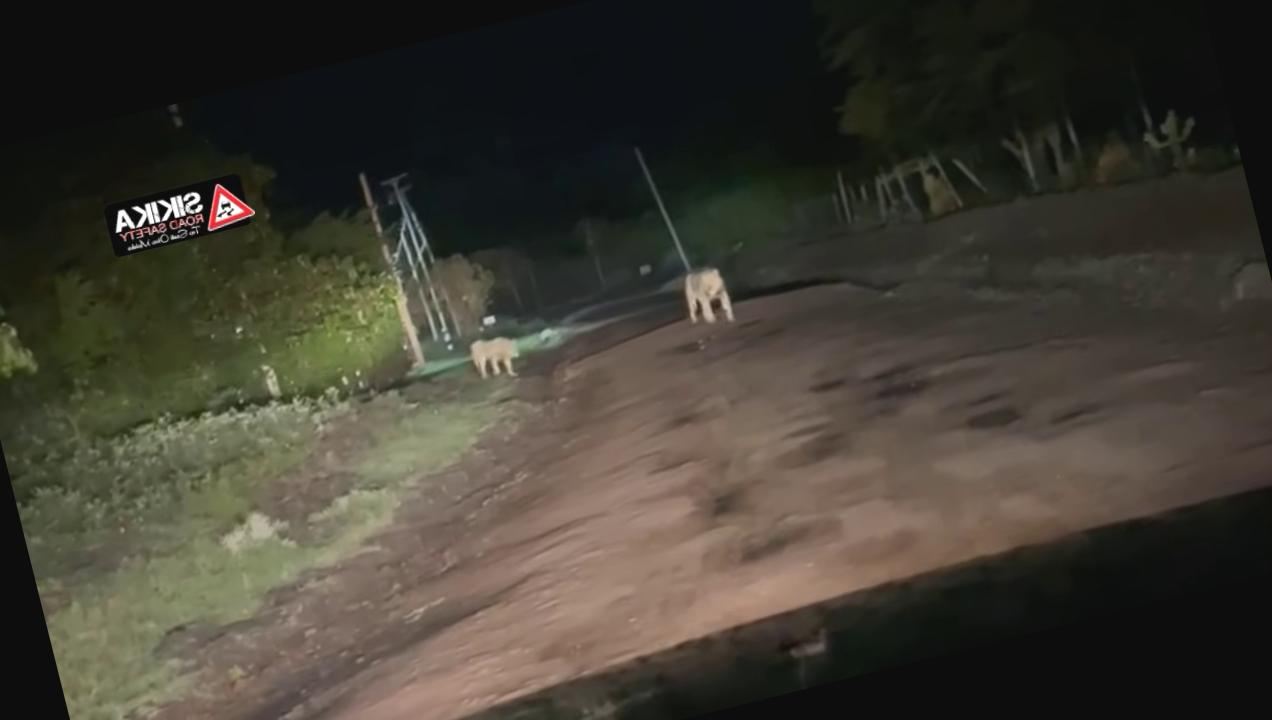lions: (445, 318, 539, 404), (672, 254, 744, 344)
